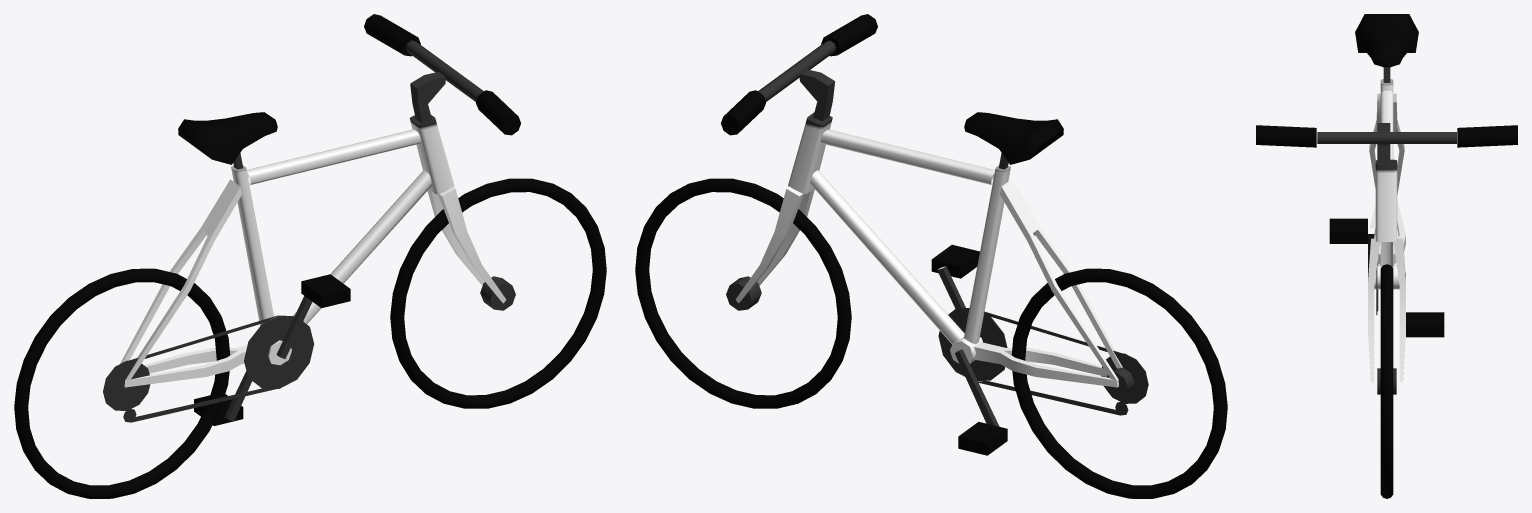
The model's file is bike.fbx.
3 renders of one model, left to right at view 1: azimuth 30°, elevation 25°; view 2: azimuth 150°, elevation 25°; view 3: azimuth 270°, elevation 25°, orthographic. The views are drawn at different scales.
Parts seen in each view (by area): view 1: Bicycle; view 2: Bicycle; view 3: Bicycle.
Part boxes in pixels (x1=…): Bicycle: x1=14, y1=14, x2=606, y2=498; Bicycle: x1=635, y1=14, x2=1227, y2=498; Bicycle: x1=1256, y1=14, x2=1517, y2=498.
Size of the model in its own units: 1.52 by 0.8693 by 0.613.
Materials: 1 (1 with a texture image).
